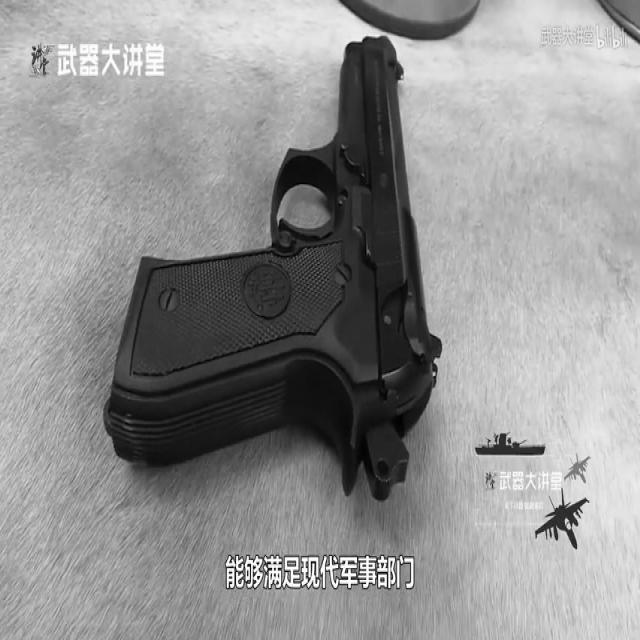Hand-Gun: (108, 24, 445, 521)
